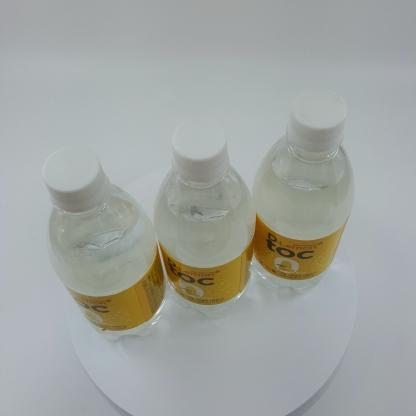------500ML: (42, 146, 167, 341), (252, 88, 355, 294), (153, 117, 256, 318)
